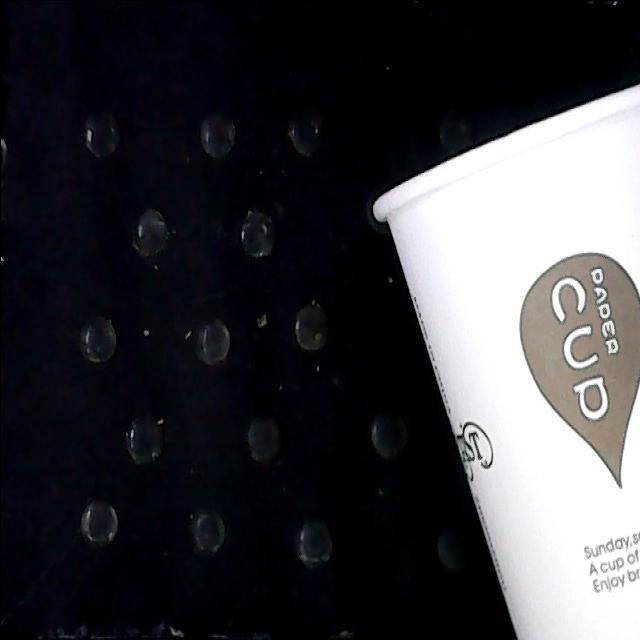-Recyclables - paper cup-: (373, 84, 640, 640)
